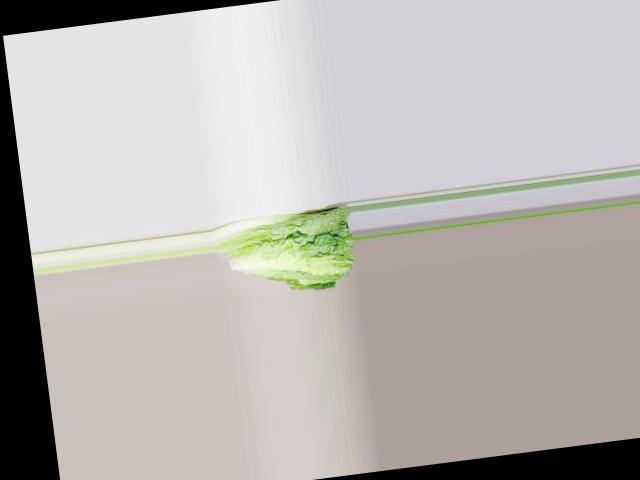lettuce: (217, 201, 359, 291)
